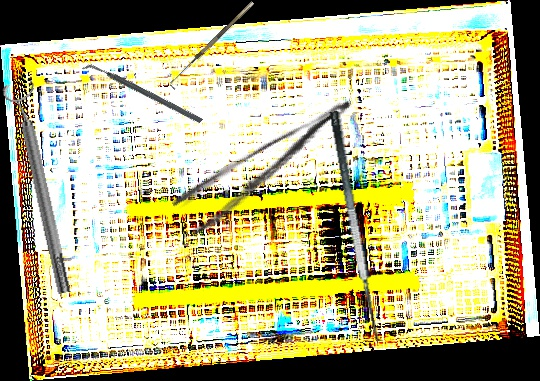Chopper: (81, 29, 204, 159)
Dressing Forceps: (169, 95, 370, 239)
Fixation Ring: (0, 79, 81, 297)
Hook Surgical: (167, 1, 259, 90)
Spatula Surgical: (328, 107, 396, 344)
